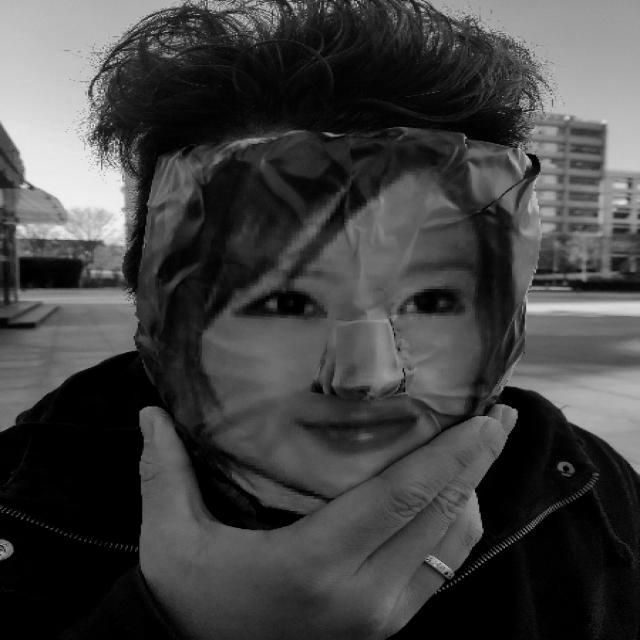fake: (147, 148, 517, 492)
